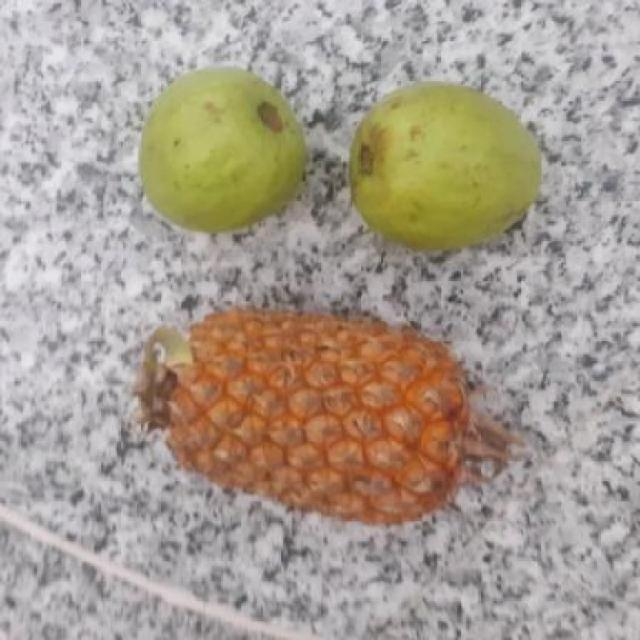guava: (340, 83, 542, 246), (130, 68, 310, 232)
pineapple: (121, 309, 519, 532)
